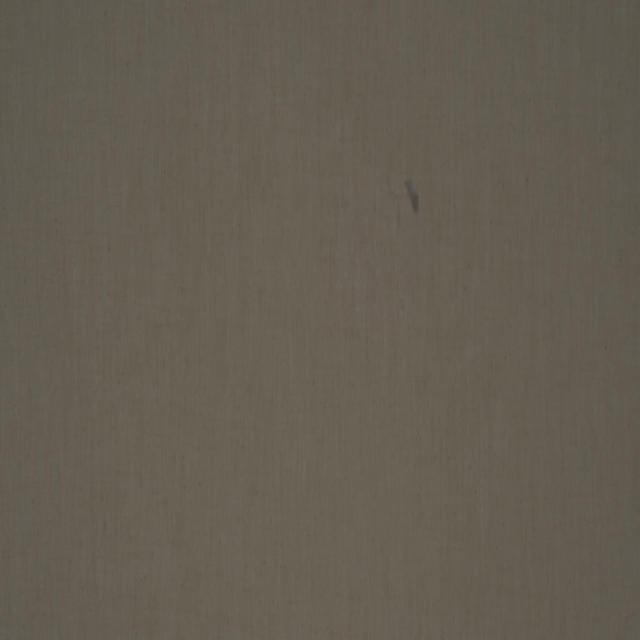dirty: (402, 172, 420, 213)
